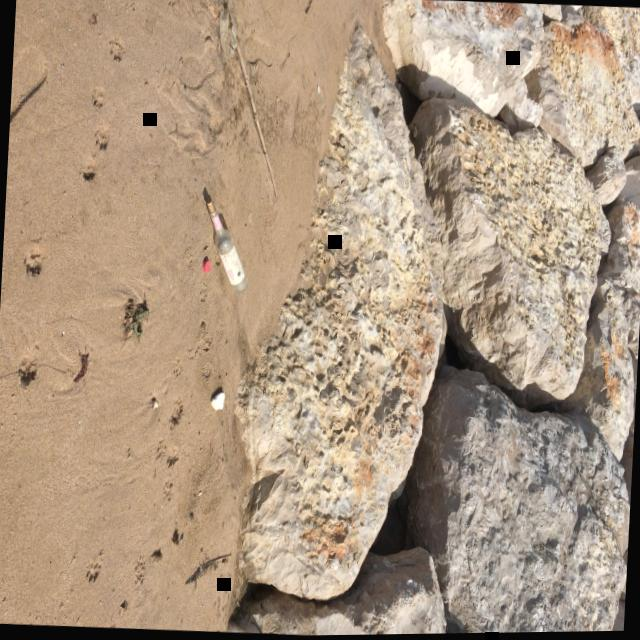Glass bottle: (209, 209, 248, 293)
Plastic bottle cap: (203, 260, 211, 272)
Plastic film: (219, 0, 237, 60)
Rope - strings: (133, 308, 150, 338)
Styrofoam piece: (211, 392, 225, 410)
